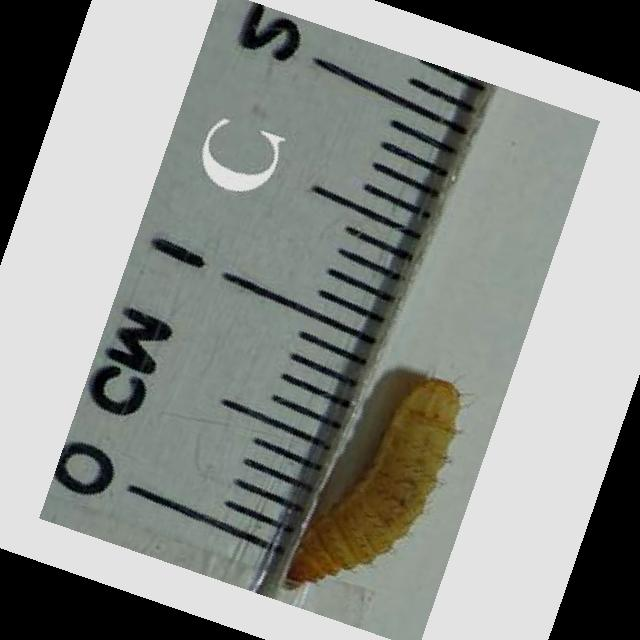Maggot: (283, 383, 465, 591)
